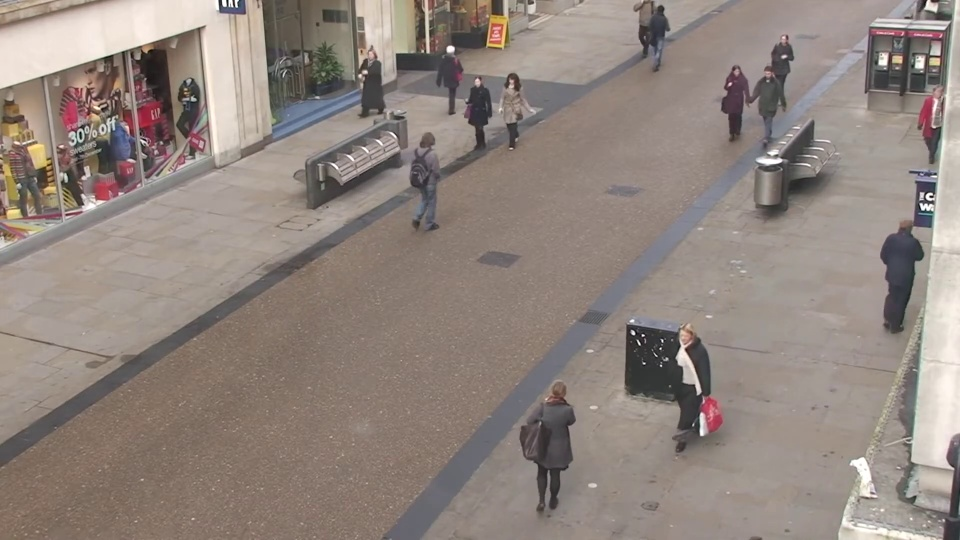pedestrian: (533, 366, 584, 525), (650, 318, 701, 467), (878, 208, 930, 330), (418, 127, 453, 225), (749, 65, 780, 148), (461, 77, 490, 162), (719, 63, 749, 145), (496, 70, 525, 153), (765, 37, 794, 113), (354, 49, 382, 125), (442, 40, 469, 114), (650, 1, 673, 66)
